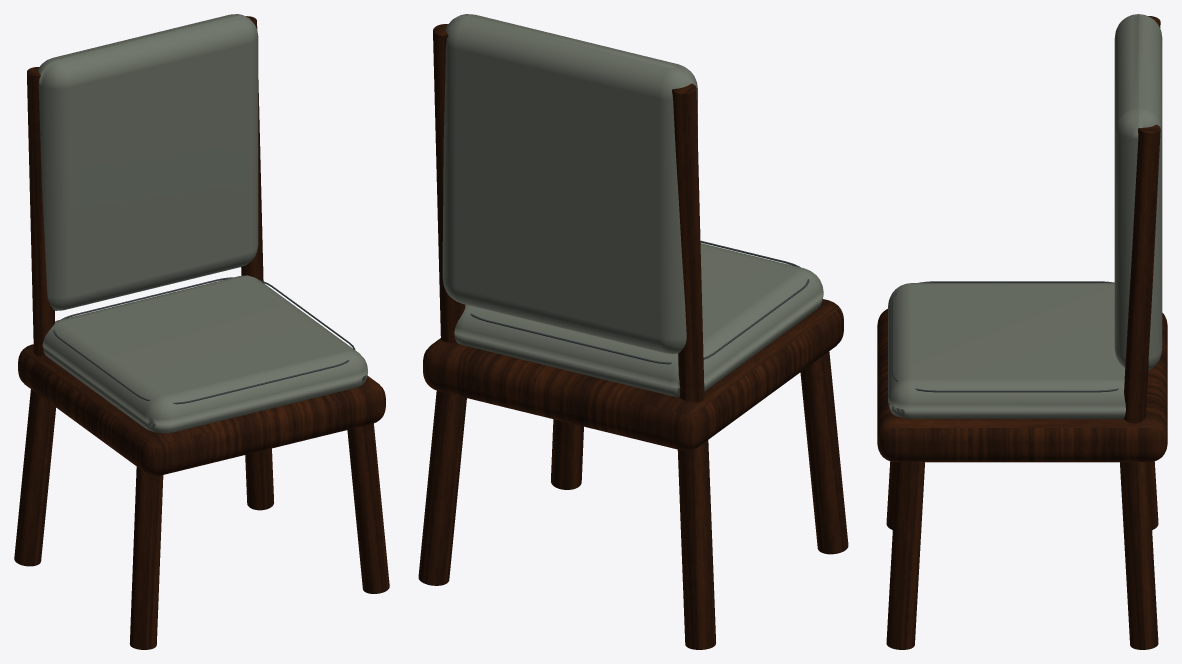
File: chair.glb
The picture shows the model from 3 angles, left to right: view 1: azimuth 30°, elevation 25°; view 2: azimuth 150°, elevation 25°; view 3: azimuth 270°, elevation 25°; orthographic projection. The views are drawn at different scales.
Visible parts, largest first — view 1: mountain-cabin chair; view 2: mountain-cabin chair; view 3: mountain-cabin chair.
Boxes of the visible parts, <box> form: mountain-cabin chair: <box>14,14,389,649</box>; mountain-cabin chair: <box>418,14,848,649</box>; mountain-cabin chair: <box>877,14,1167,649</box>.
Size of the model in its own units: 0.591 by 1.1 by 0.55.
3 materials, 1 textured.
